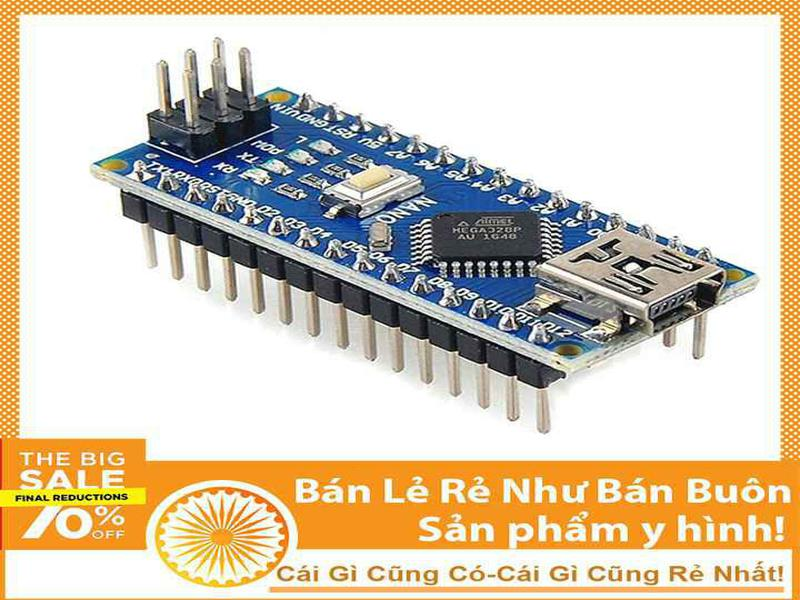Arduino_Nano: (89, 39, 761, 441)
